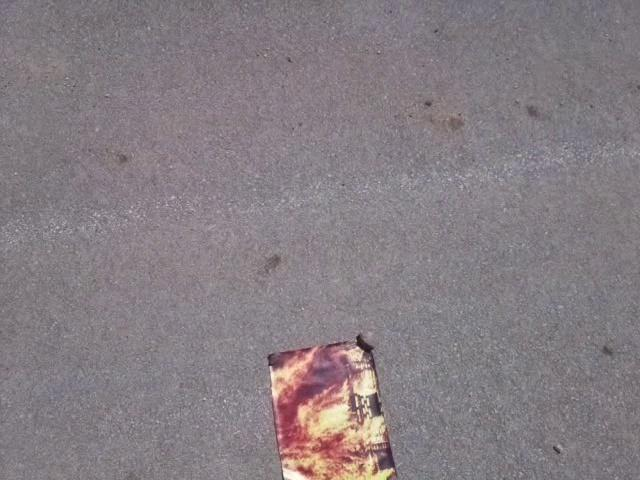fire-poster: (265, 333, 400, 479)
